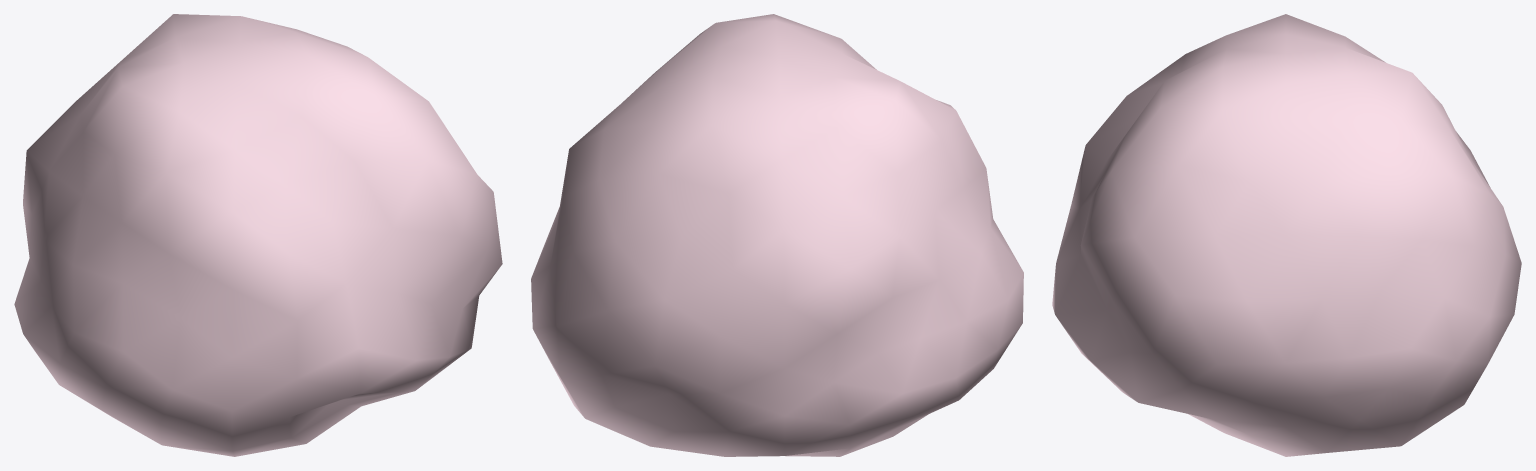
File: tree-blossom-b-crown.glb
3 renders of one model, left to right at view 1: azimuth 30°, elevation 25°; view 2: azimuth 150°, elevation 25°; view 3: azimuth 270°, elevation 25°, orthographic. The views are drawn at different scales.
Parts seen in each view (by area): view 1: tree-blossom-b-crown; view 2: tree-blossom-b-crown; view 3: tree-blossom-b-crown.
Part boxes in pixels (box(x1,y1,x2,y2)): tree-blossom-b-crown: box(14, 14, 502, 456); tree-blossom-b-crown: box(531, 14, 1023, 456); tree-blossom-b-crown: box(1052, 14, 1521, 456).
Size of the model in its own units: 0.7354 by 0.6347 by 0.75.
